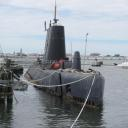submarine: (29, 1, 128, 82)
